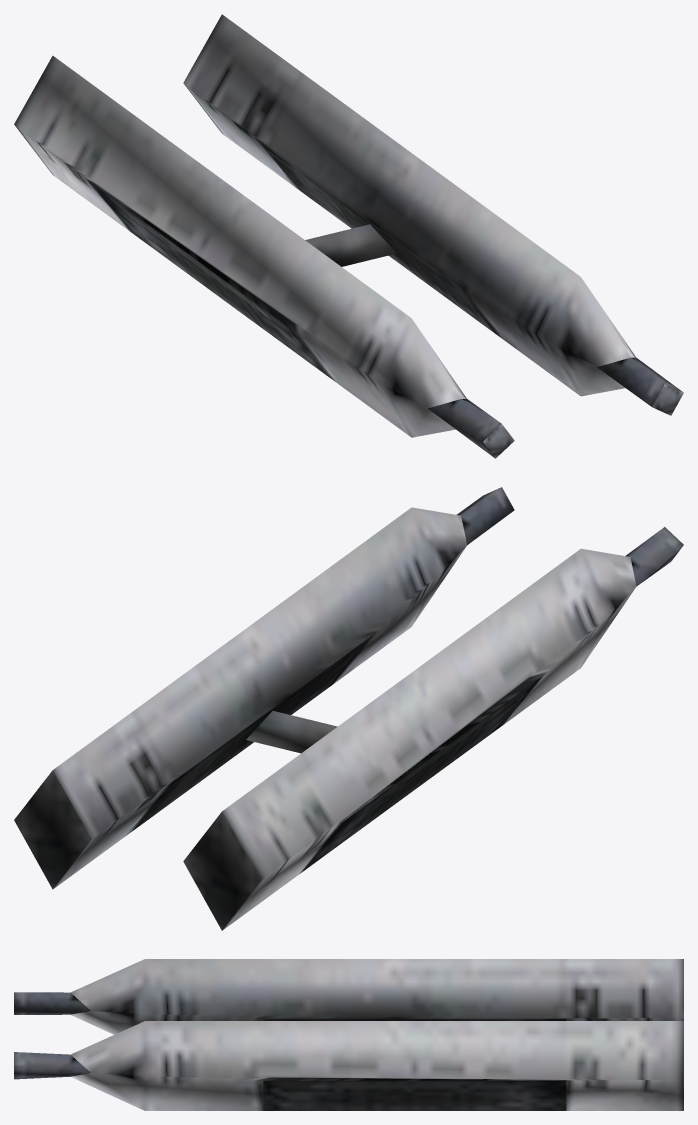
File: spacestation_turret_body_s02_l3.fbx
3 views of the same model, one above another, from view 1: azimuth 30°, elevation 25°; view 2: azimuth 150°, elevation 25°; view 3: azimuth 270°, elevation 25° (orthographic). The views are drawn at different scales.
Parts seen in each view (by area): view 1: mesh_node; view 2: mesh_node; view 3: mesh_node.
Part boxes in pixels (x1,y1,x2,y2): mesh_node: [14, 14, 683, 458]; mesh_node: [14, 487, 683, 930]; mesh_node: [14, 959, 683, 1110].
Bounding box in the file's own units: 3.46 × 1.58 × 10.65.
Materials: 1 (1 with a texture image).
